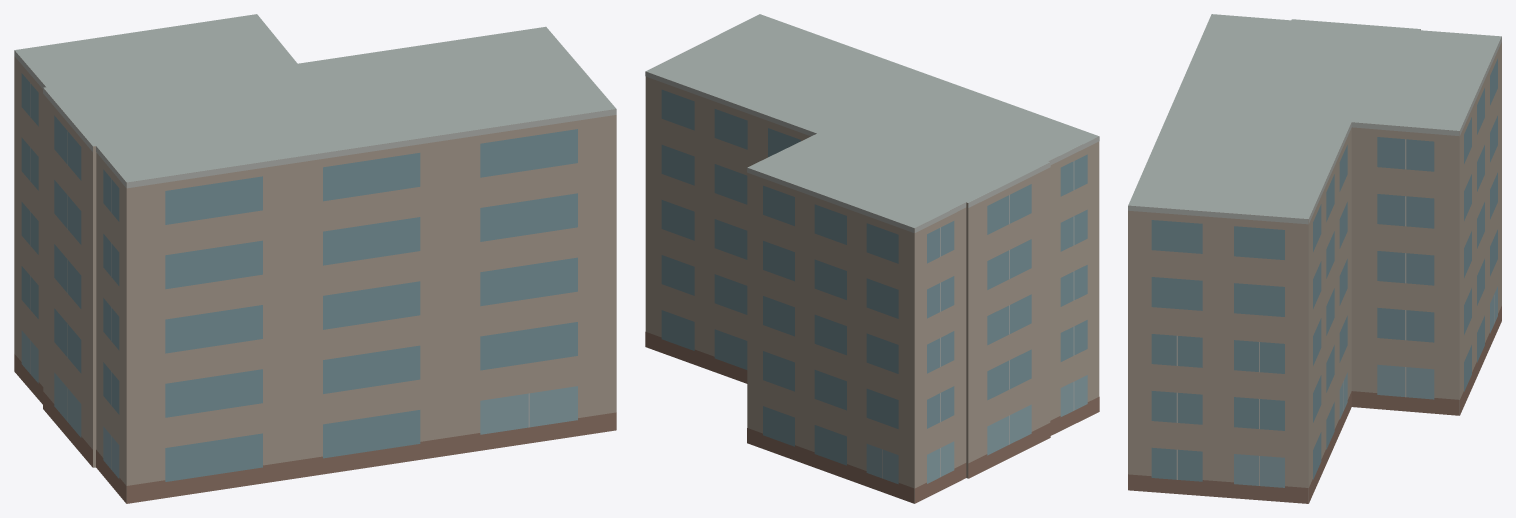
File: survey-upis-32541044.glb
3 views of the same model, side by side, from view 1: azimuth 30°, elevation 25°; view 2: azimuth 150°, elevation 25°; view 3: azimuth 270°, elevation 25° (orthographic). The views are drawn at different scales.
Parts seen in each view (by area): view 1: survey-upis-32541044.tmp; view 2: survey-upis-32541044.tmp; view 3: survey-upis-32541044.tmp.
Part boxes in pixels (x1,y1,x2,y2): survey-upis-32541044.tmp: (14, 14, 616, 503); survey-upis-32541044.tmp: (645, 14, 1099, 503); survey-upis-32541044.tmp: (1128, 14, 1501, 503).
Size of the model in its own units: 20.71 by 13.4 by 15.95.
